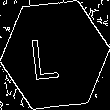L_N: (38, 28, 72, 82)
